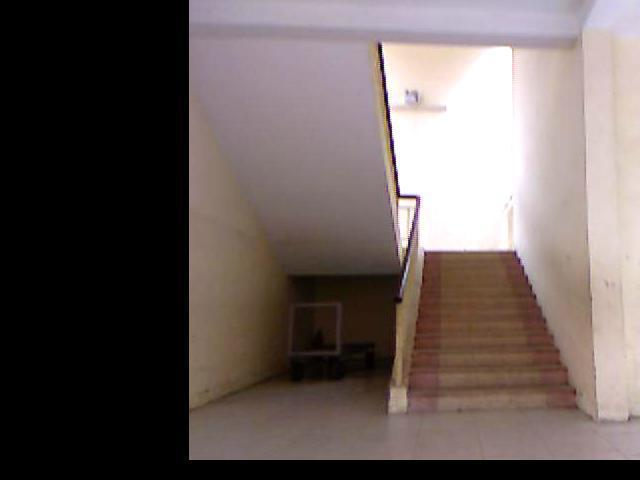Escaleras: (402, 244, 584, 413)
